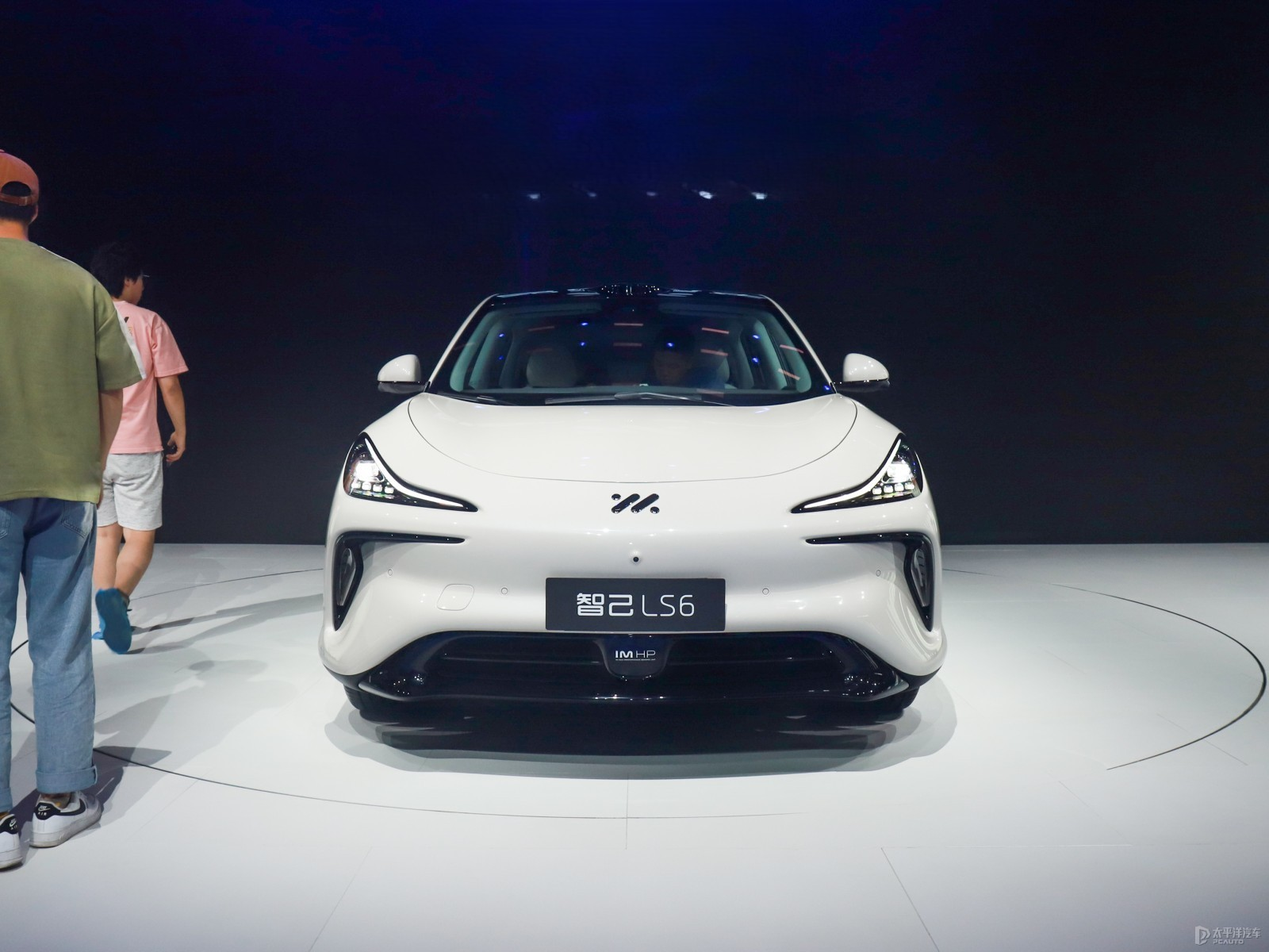IM: (611, 493, 659, 513)
